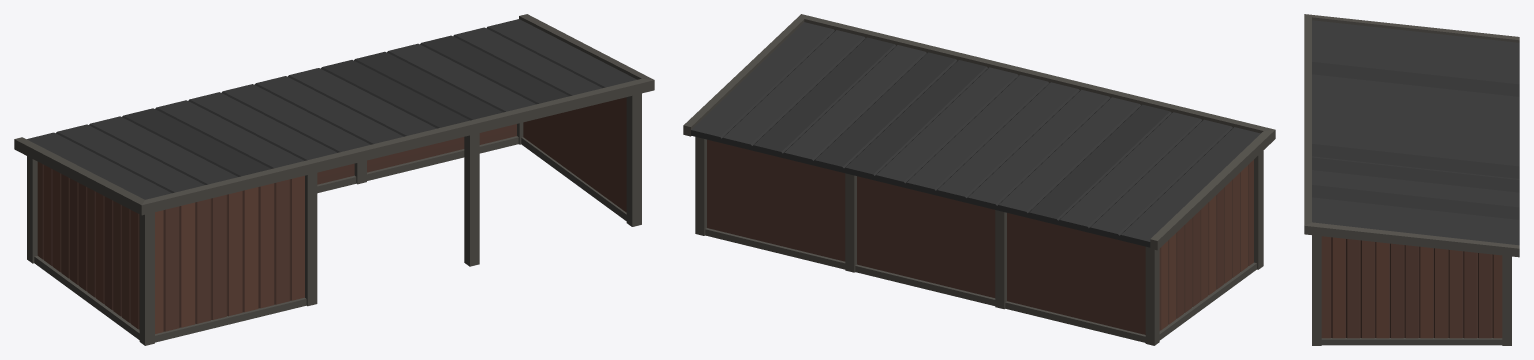
File: SM_Bldg_Farm_Shed_01.fbx
3 renders of one model, left to right at view 1: azimuth 30°, elevation 25°; view 2: azimuth 150°, elevation 25°; view 3: azimuth 270°, elevation 25°, orthographic. The views are drawn at different scales.
Visible parts, largest first — view 1: SM_Bldg_Farm_Shed_01; view 2: SM_Bldg_Farm_Shed_01; view 3: SM_Bldg_Farm_Shed_01.
Part boxes in pixels (bbox=[...]): SM_Bldg_Farm_Shed_01: bbox=[14, 14, 654, 345]; SM_Bldg_Farm_Shed_01: bbox=[683, 14, 1275, 345]; SM_Bldg_Farm_Shed_01: bbox=[1304, 14, 1519, 345].
Size of the model in its own units: 1580 by 430 by 680.
